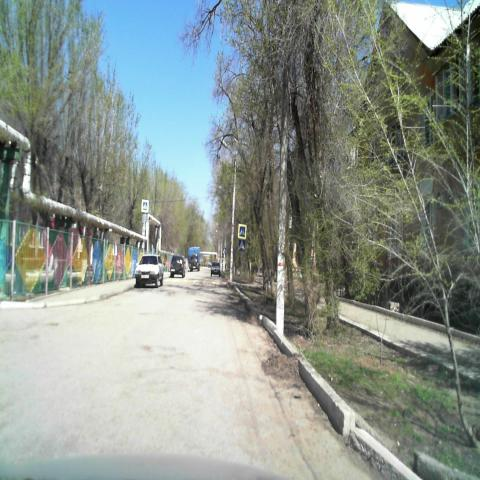5_19_1: (238, 224, 246, 238), (141, 200, 149, 212)
